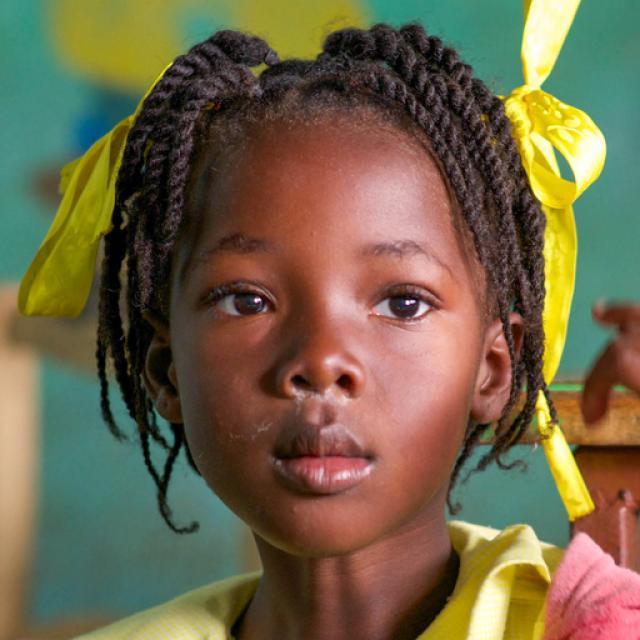neutral: (171, 104, 480, 554)
